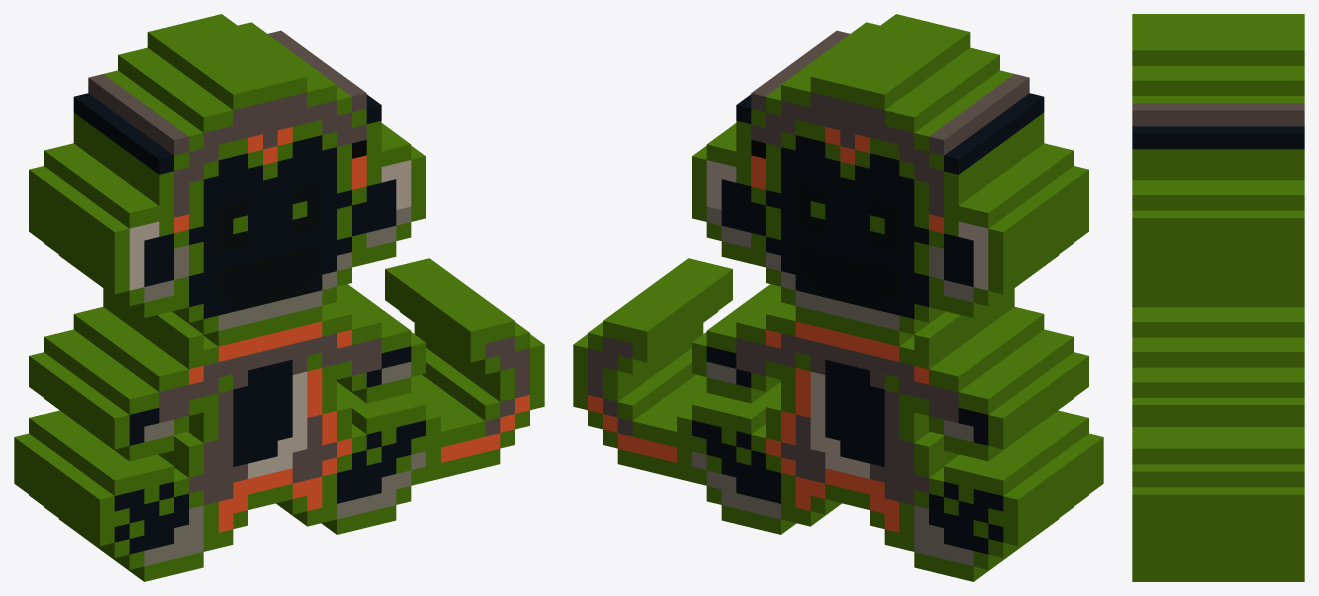
3 renders of one model, left to right at view 1: azimuth 30°, elevation 25°; view 2: azimuth 150°, elevation 25°; view 3: azimuth 270°, elevation 25°, orthographic.
Bounding box in the file's own units: 30 × 30 × 10.
